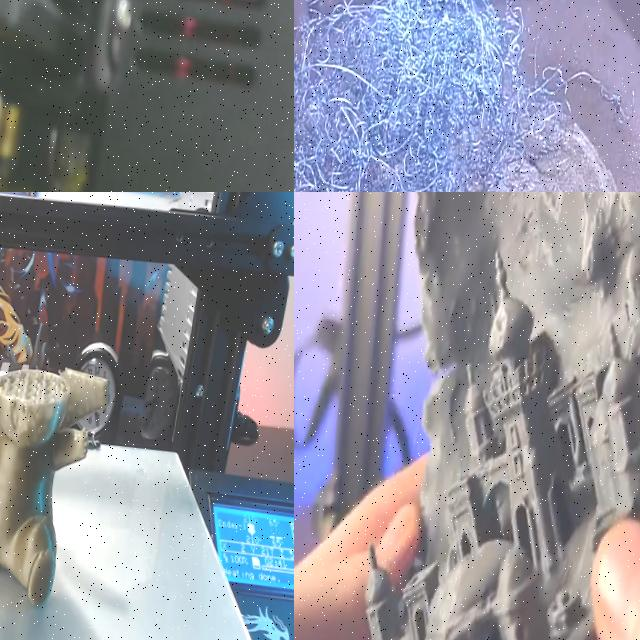spaghetti: (294, 0, 625, 192)
